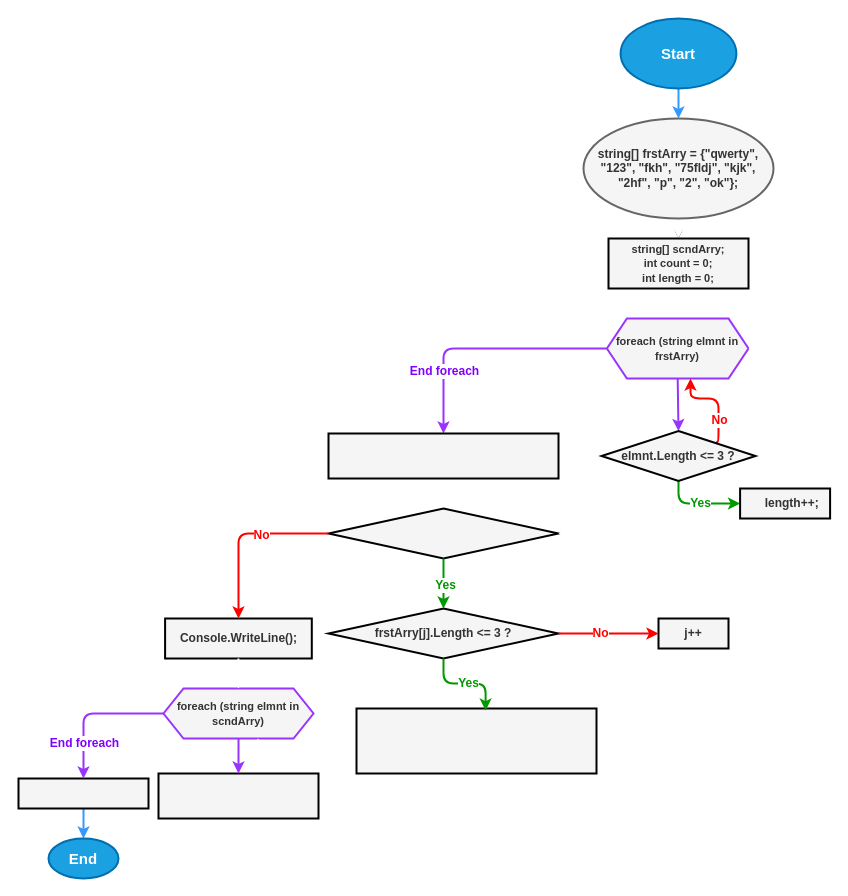
Image size: 848x896. Some labels were removed from this diagram. The centre of each missing label's shape, as x and y in pixels:
Console.ReadLine();: point (83, 793)
Console.Write($"\t{elmnt} ");: point (238, 795)
j < frstArry.Length ?: point (443, 533)
scndArry = new string[length]; int j = 0;: point (443, 455)
scndArry[count] = frstArry[j]; Console.Write($"\t{count} "); count++;: point (476, 740)
